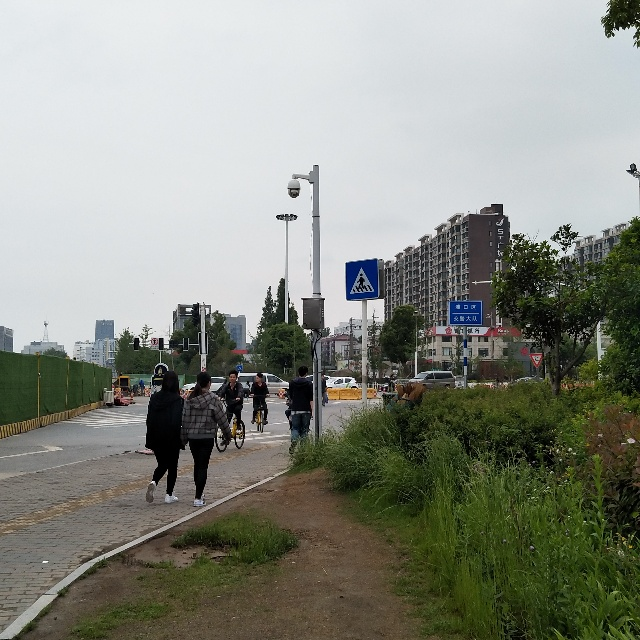crosswalk: (347, 258, 380, 298)
